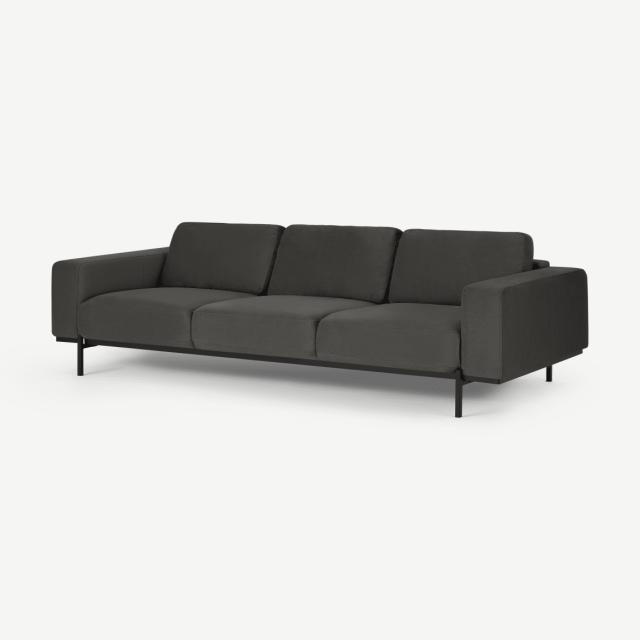back_cushion: (139, 222, 548, 304)
left_arm: (461, 267, 587, 383)
legs: (454, 370, 468, 417), (77, 337, 85, 375), (546, 366, 552, 381)
right_arm: (51, 247, 168, 339)
seat_cushion: (78, 287, 460, 373)
stallion-sofa: (0, 0, 639, 639)
